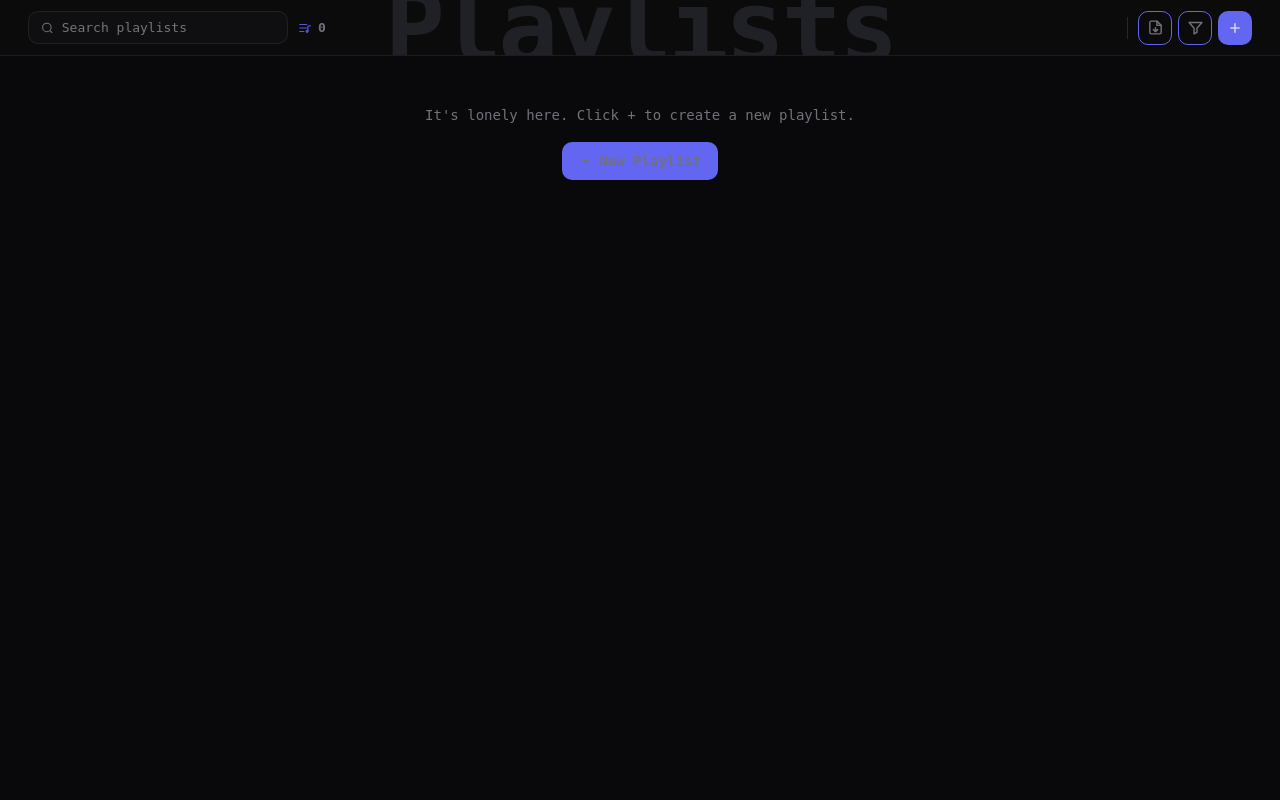
PlaylistsView › prevents creating duplicate playlist names in the Playlists view
This screenshot has width=1280, height=800.
Click the button titled "New playlist".
click(1235, 28)  # box [1218,10,1252,44]
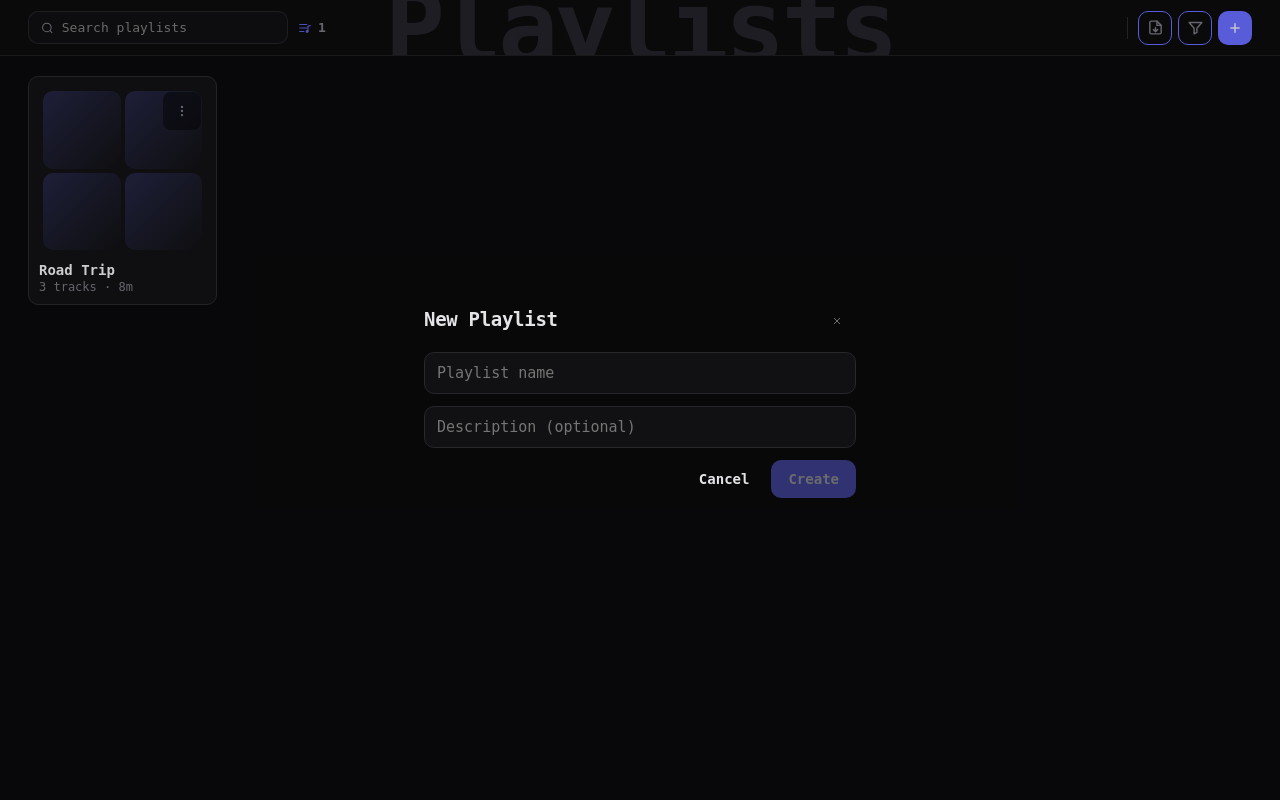
Type "road trip" into the field with placeholder "Playlist name".
click(640, 373); type("road trip")  # box [424,352,856,394]
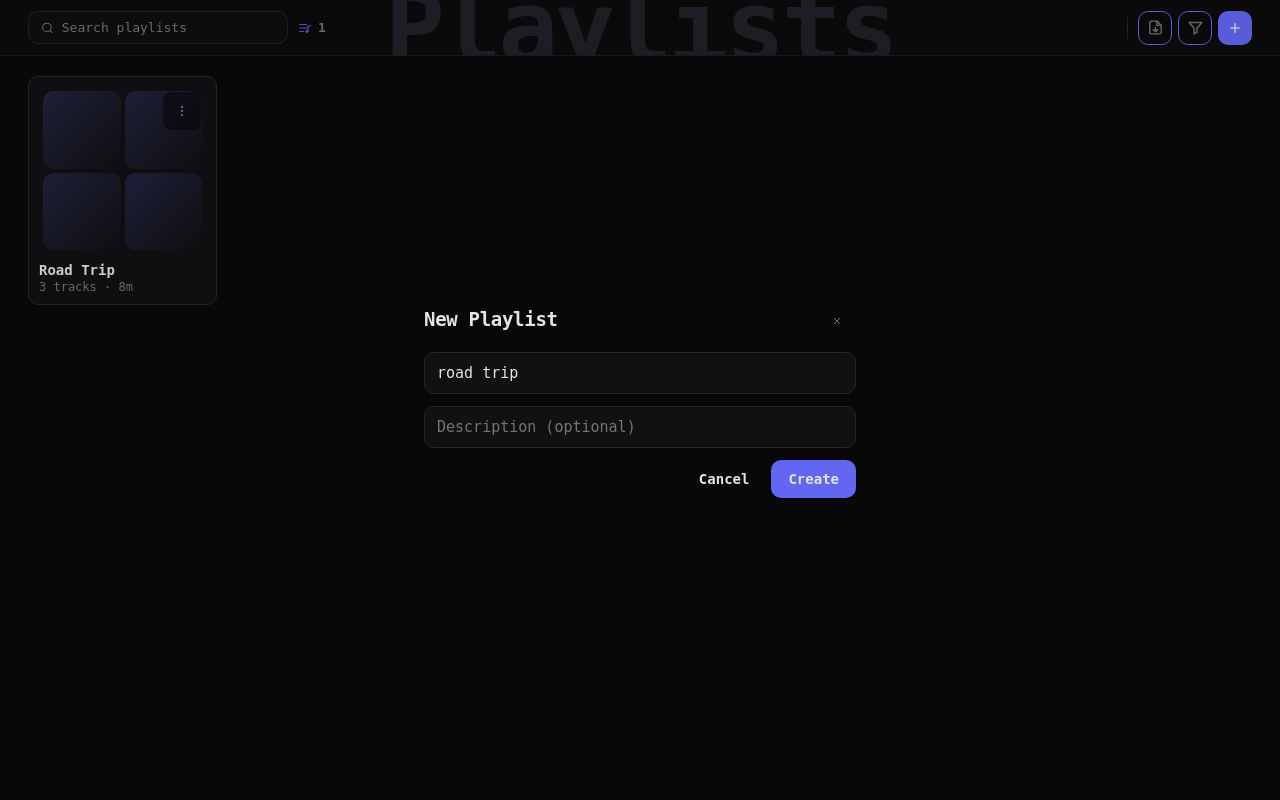
Click the button "Create".
click(814, 479)  # box [771,460,856,498]
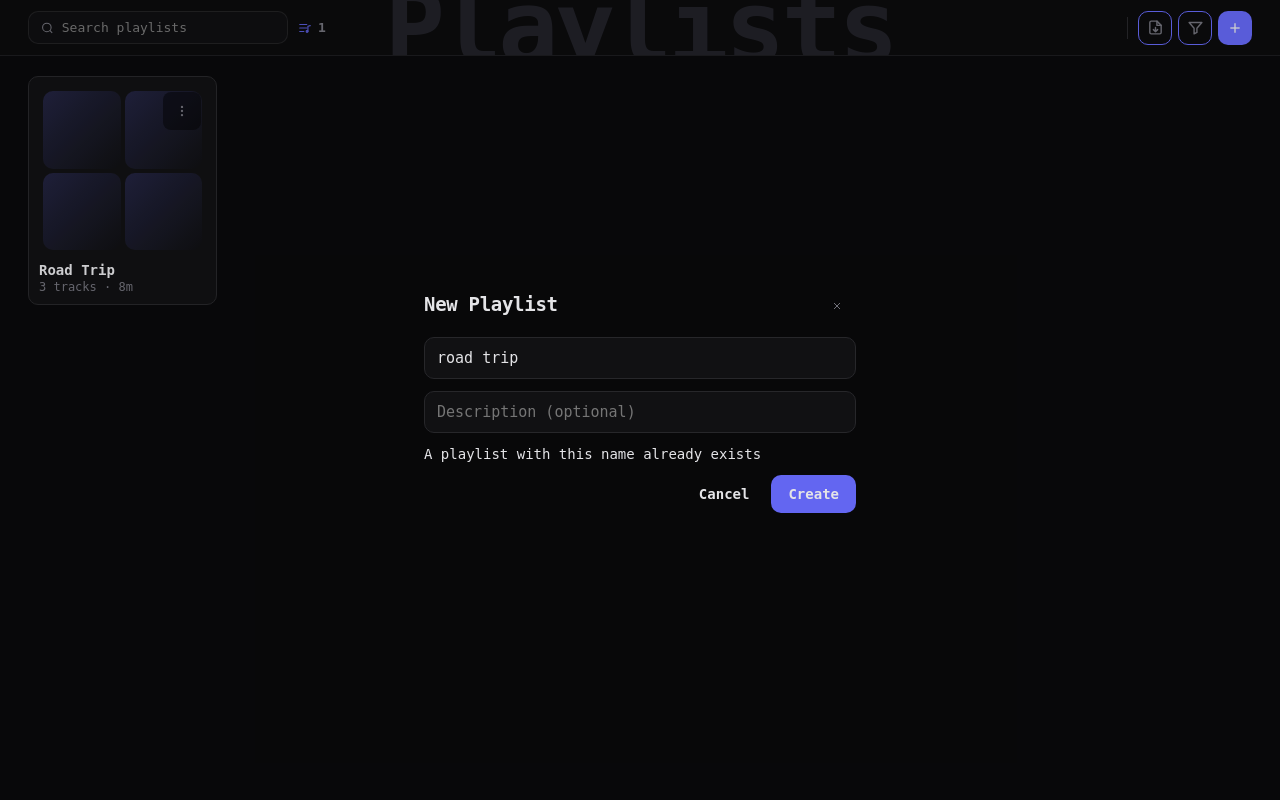
Check: the text "A playlist with this name already exists" is shown, box [424,446,761,462]
